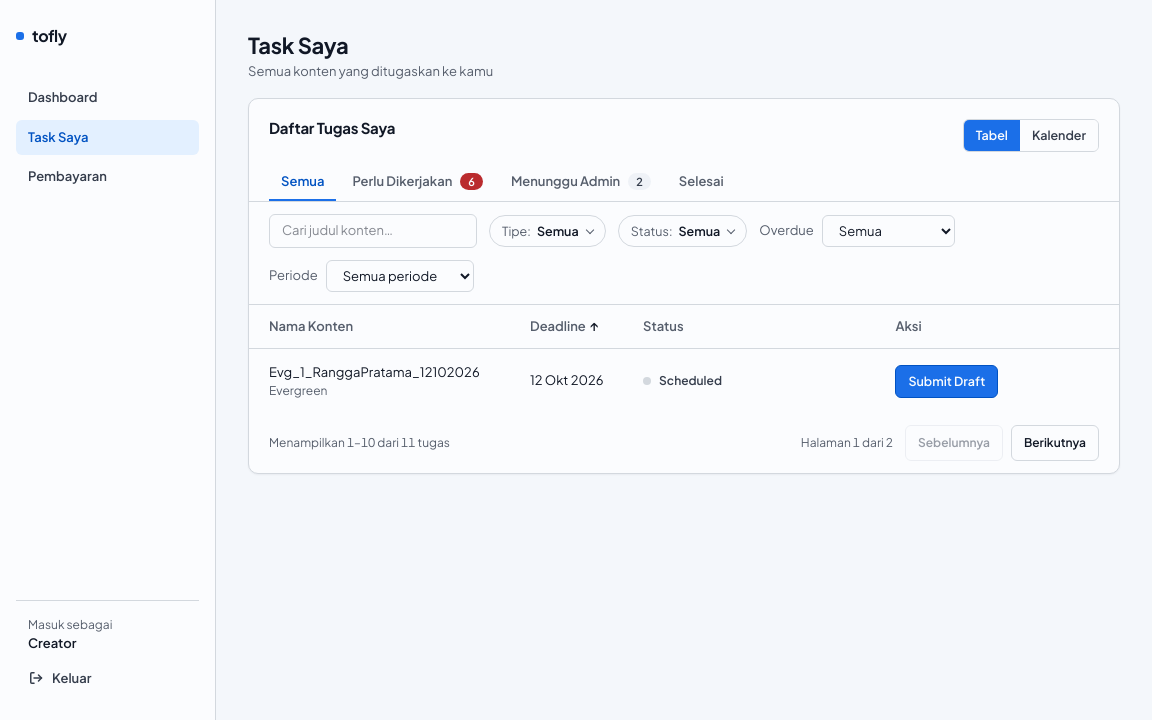
Test: Task Saya page › opens the Submit Draft modal from a task's button
The image size is (1152, 720).
Click the button "Submit Draft" at (947, 381), box [895, 365, 998, 398]
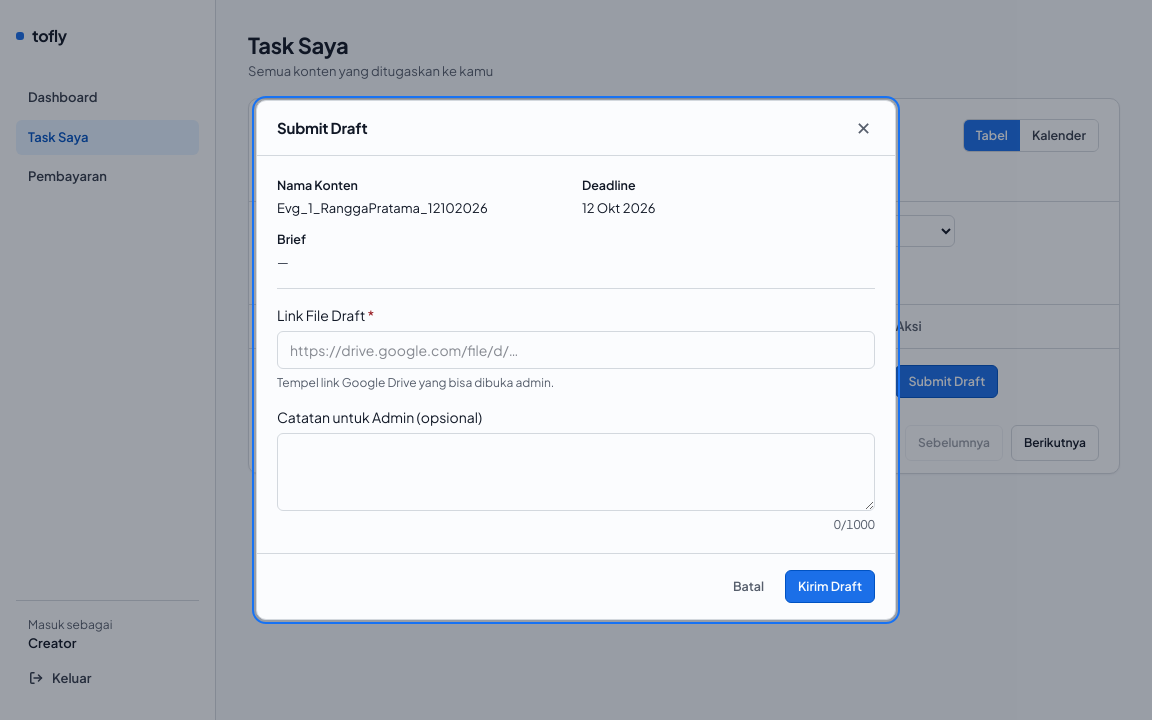
Expected: the dialog "Submit Draft" is shown, [256, 100, 896, 620]
